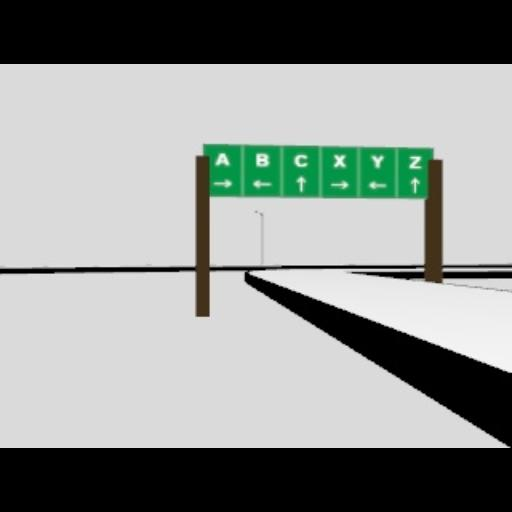A: (214, 153, 230, 167)
B: (256, 153, 270, 167)
C: (294, 154, 308, 168)
Left: (251, 178, 273, 190), (368, 181, 388, 191)
Right: (330, 180, 350, 190), (214, 179, 232, 189)
Straight: (411, 177, 421, 195), (296, 176, 306, 192)
X: (334, 154, 348, 168)
Y: (370, 154, 386, 170)
Z: (410, 156, 422, 170)
